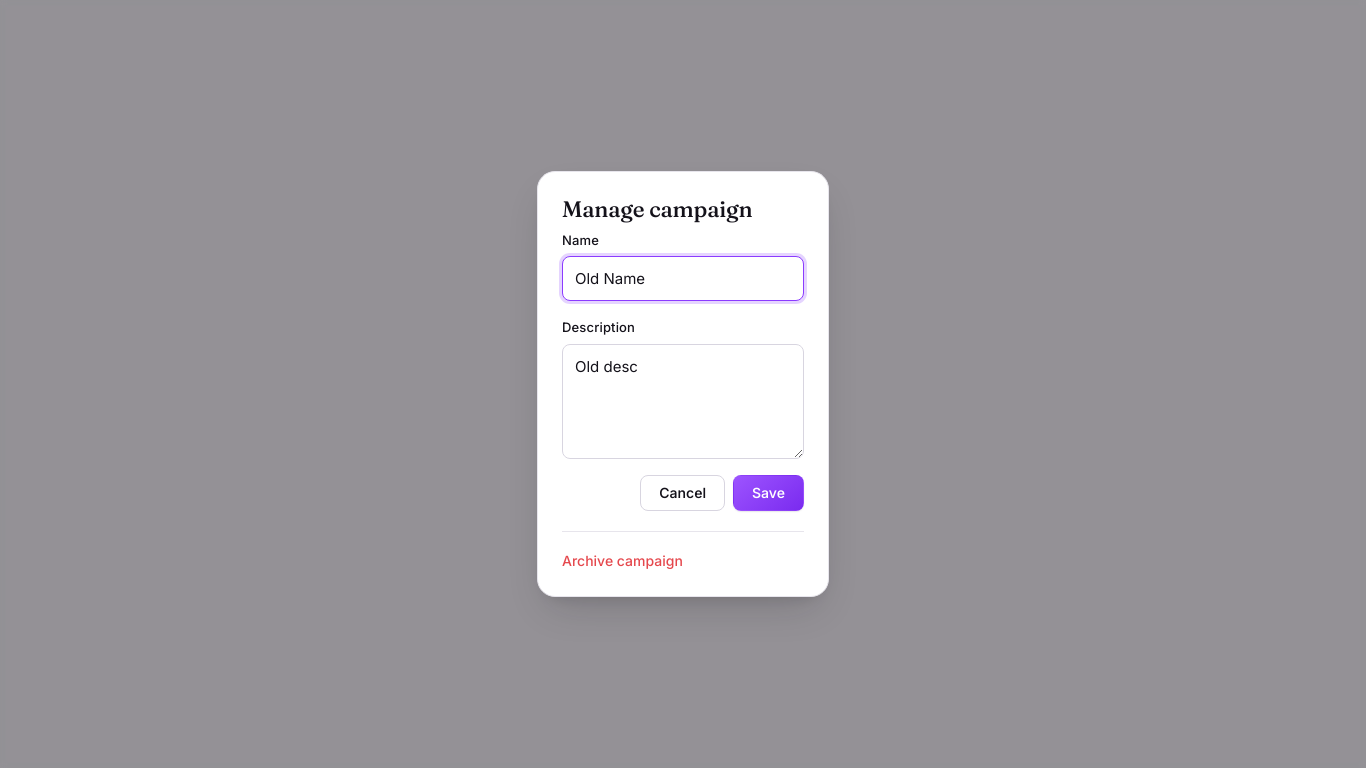
Test: ManageCampaignModal › backs out of the archive confirmation without archiving
Click the button "Archive campaign": (622, 560) [562,554,683,568]
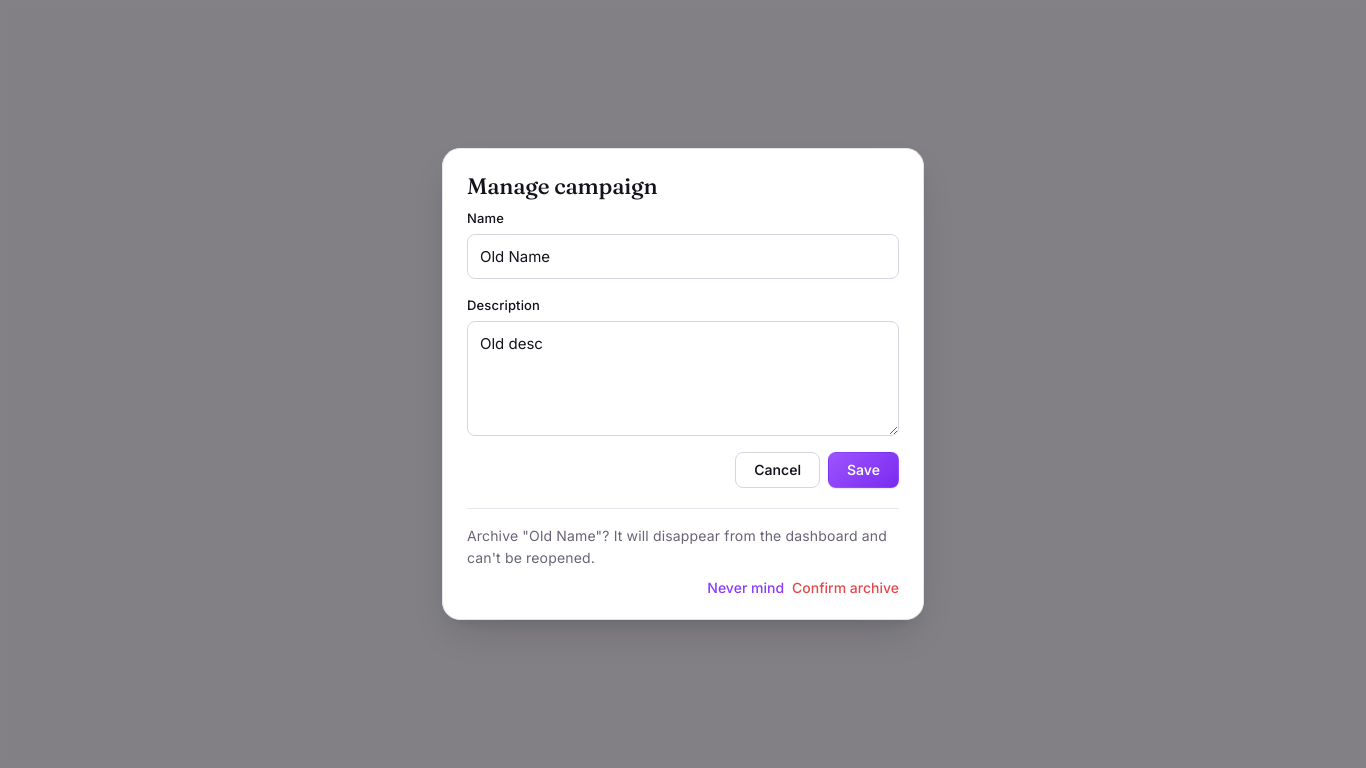
Click the button "Never mind": (746, 588) [707,581,784,595]
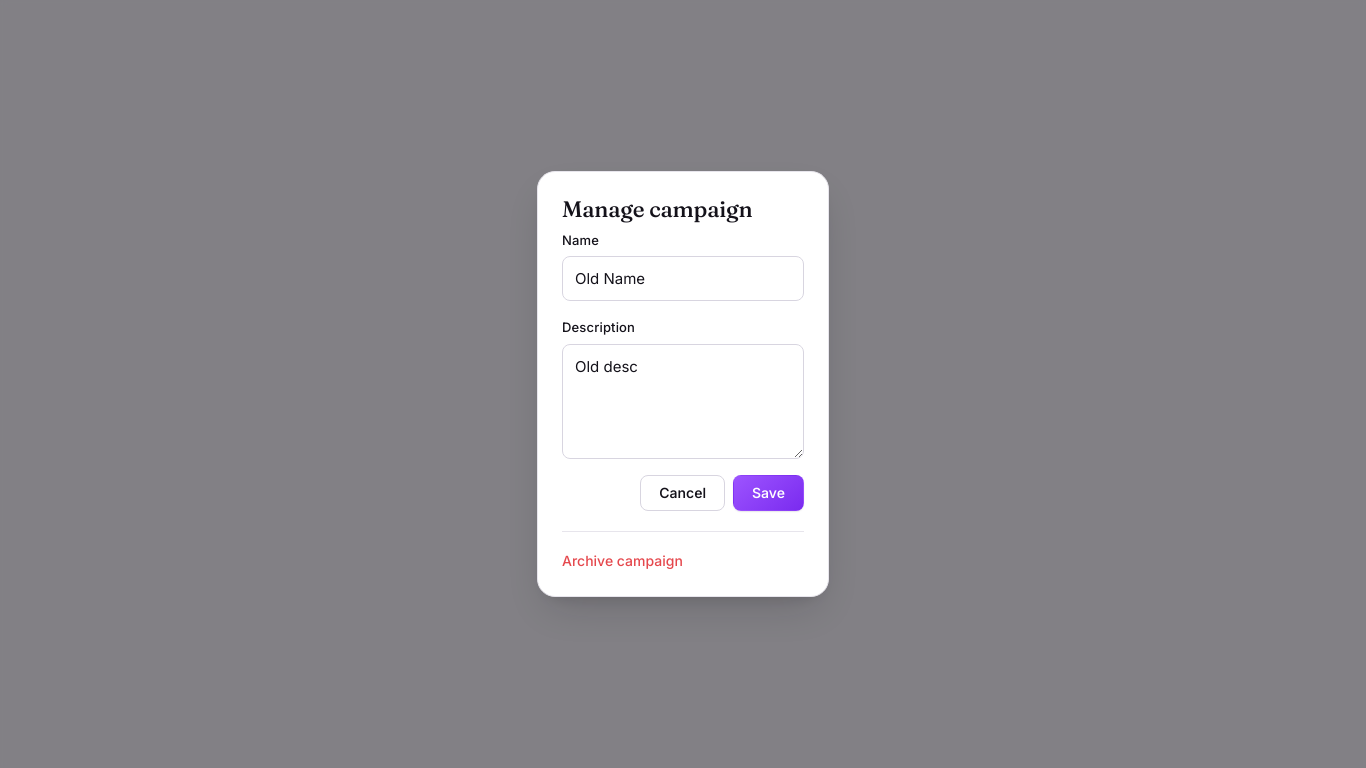
Now the button "Archive campaign" is shown, box [562,554,683,568]
